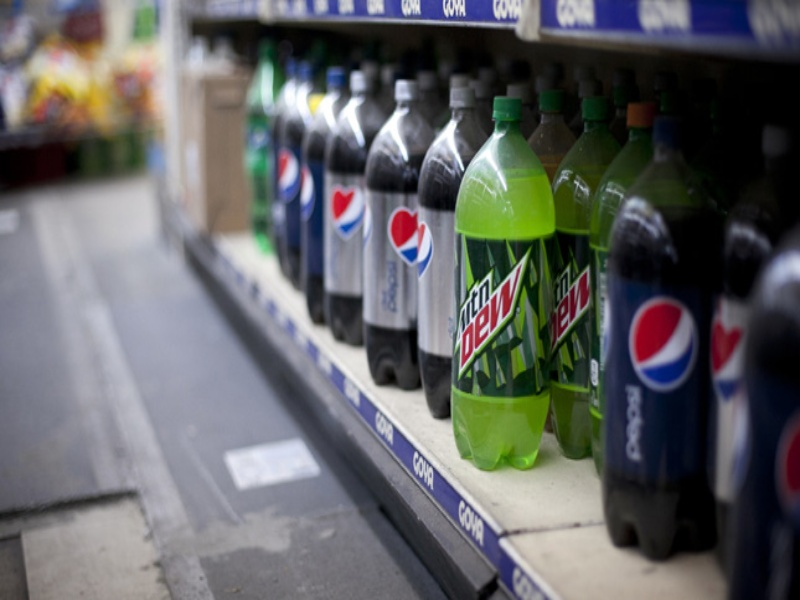Plastic bottle: (588, 115, 728, 576), (430, 78, 573, 488), (402, 61, 504, 448), (342, 70, 455, 408), (536, 68, 614, 470)
